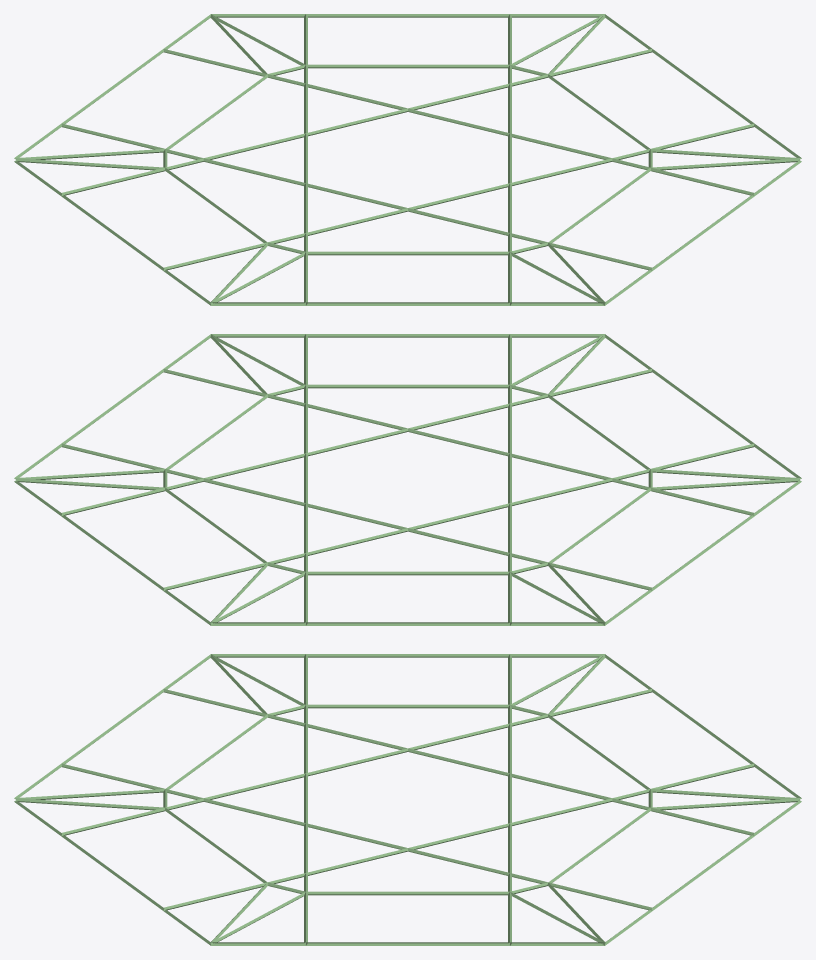
The model's file is hex_wireframe.fbx.
The picture shows the model from 3 angles, top to bottom: view 1: azimuth 30°, elevation 25°; view 2: azimuth 150°, elevation 25°; view 3: azimuth 270°, elevation 25°; orthographic projection.
Parts seen in each view (by area): view 1: __base_wire; view 2: __base_wire; view 3: __base_wire.
Part boxes in pixels (left/top/right/bottom): __base_wire: left=14, top=14, right=801, bottom=305; __base_wire: left=14, top=334, right=801, bottom=625; __base_wire: left=14, top=654, right=801, bottom=945.
Bounding box in the file's own units: 1.73 × 2 × 0.01.
